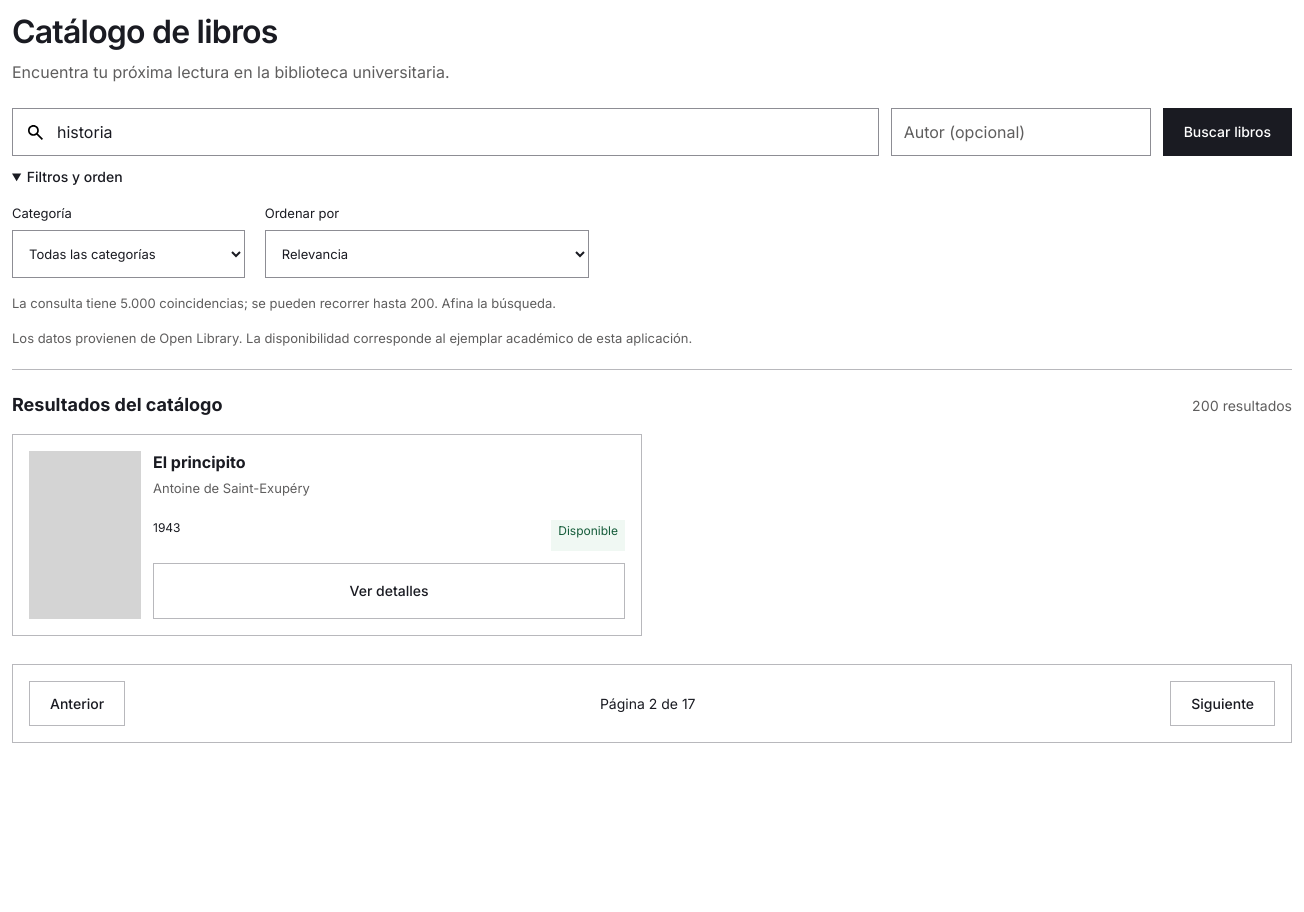
Scenario: Exploración del catálogo › aplica el orden por autor desde la página inicial y explica el límite de la selección
The width and height of the screenshot is (1304, 912).
Expected: the link "Ver detalles" is shown, [153,563,625,618]
Select "Autor A–Z" in the dropdown labelled "Ordenar por" at (427, 254), box [265,230,589,278]
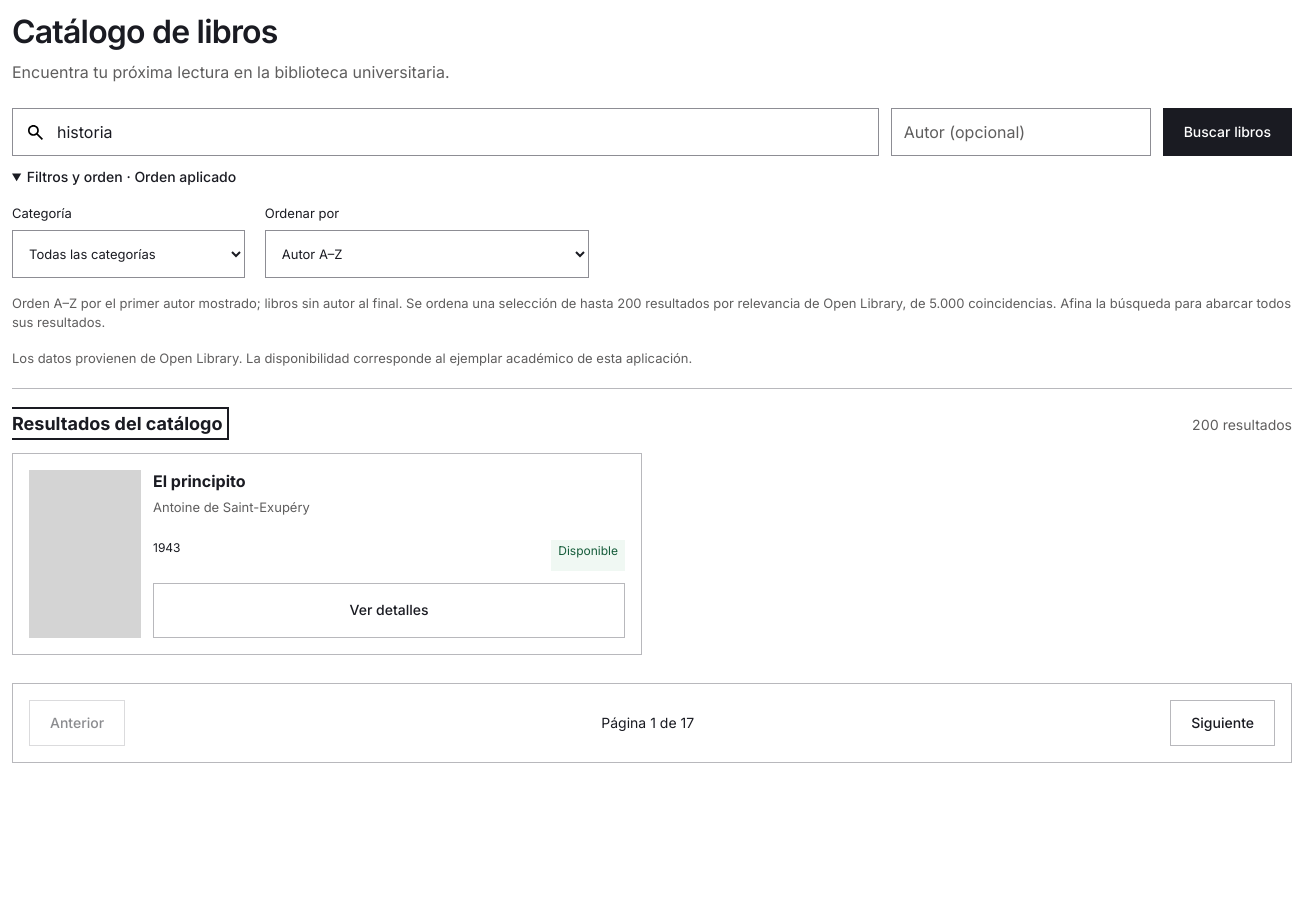
Result: the text "Se ordena una selección de hasta 200" is shown at [12,294,1291,330]
